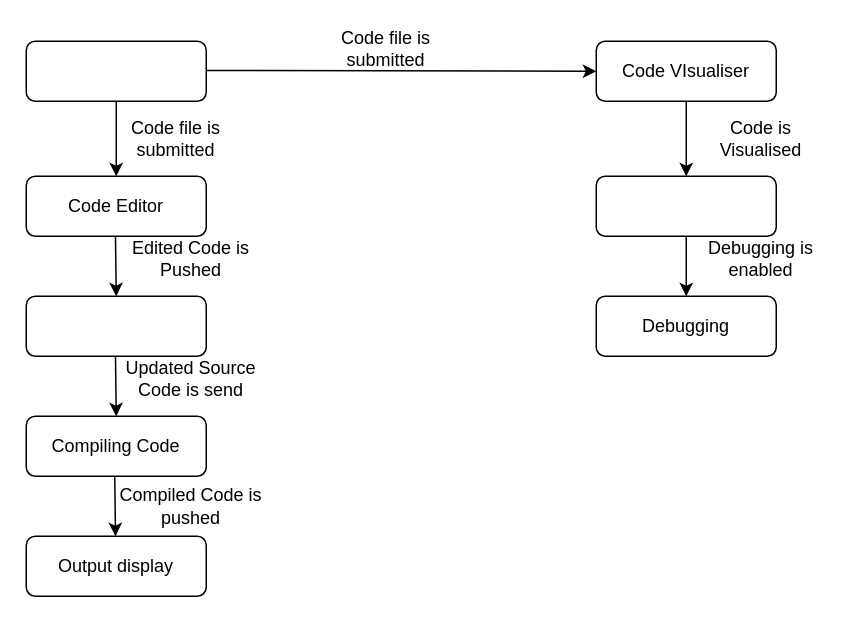
The diagram is 863 pixels wide and 623 high, and some of its shapes have lost their labels. The box of each missing label's shape, as (x1, y1, x2, y2) in pixels:
Code File: (25, 40, 206, 101)
Code snippets Prediction: (25, 295, 206, 356)
Display Source Code visualisation: (595, 175, 776, 236)
